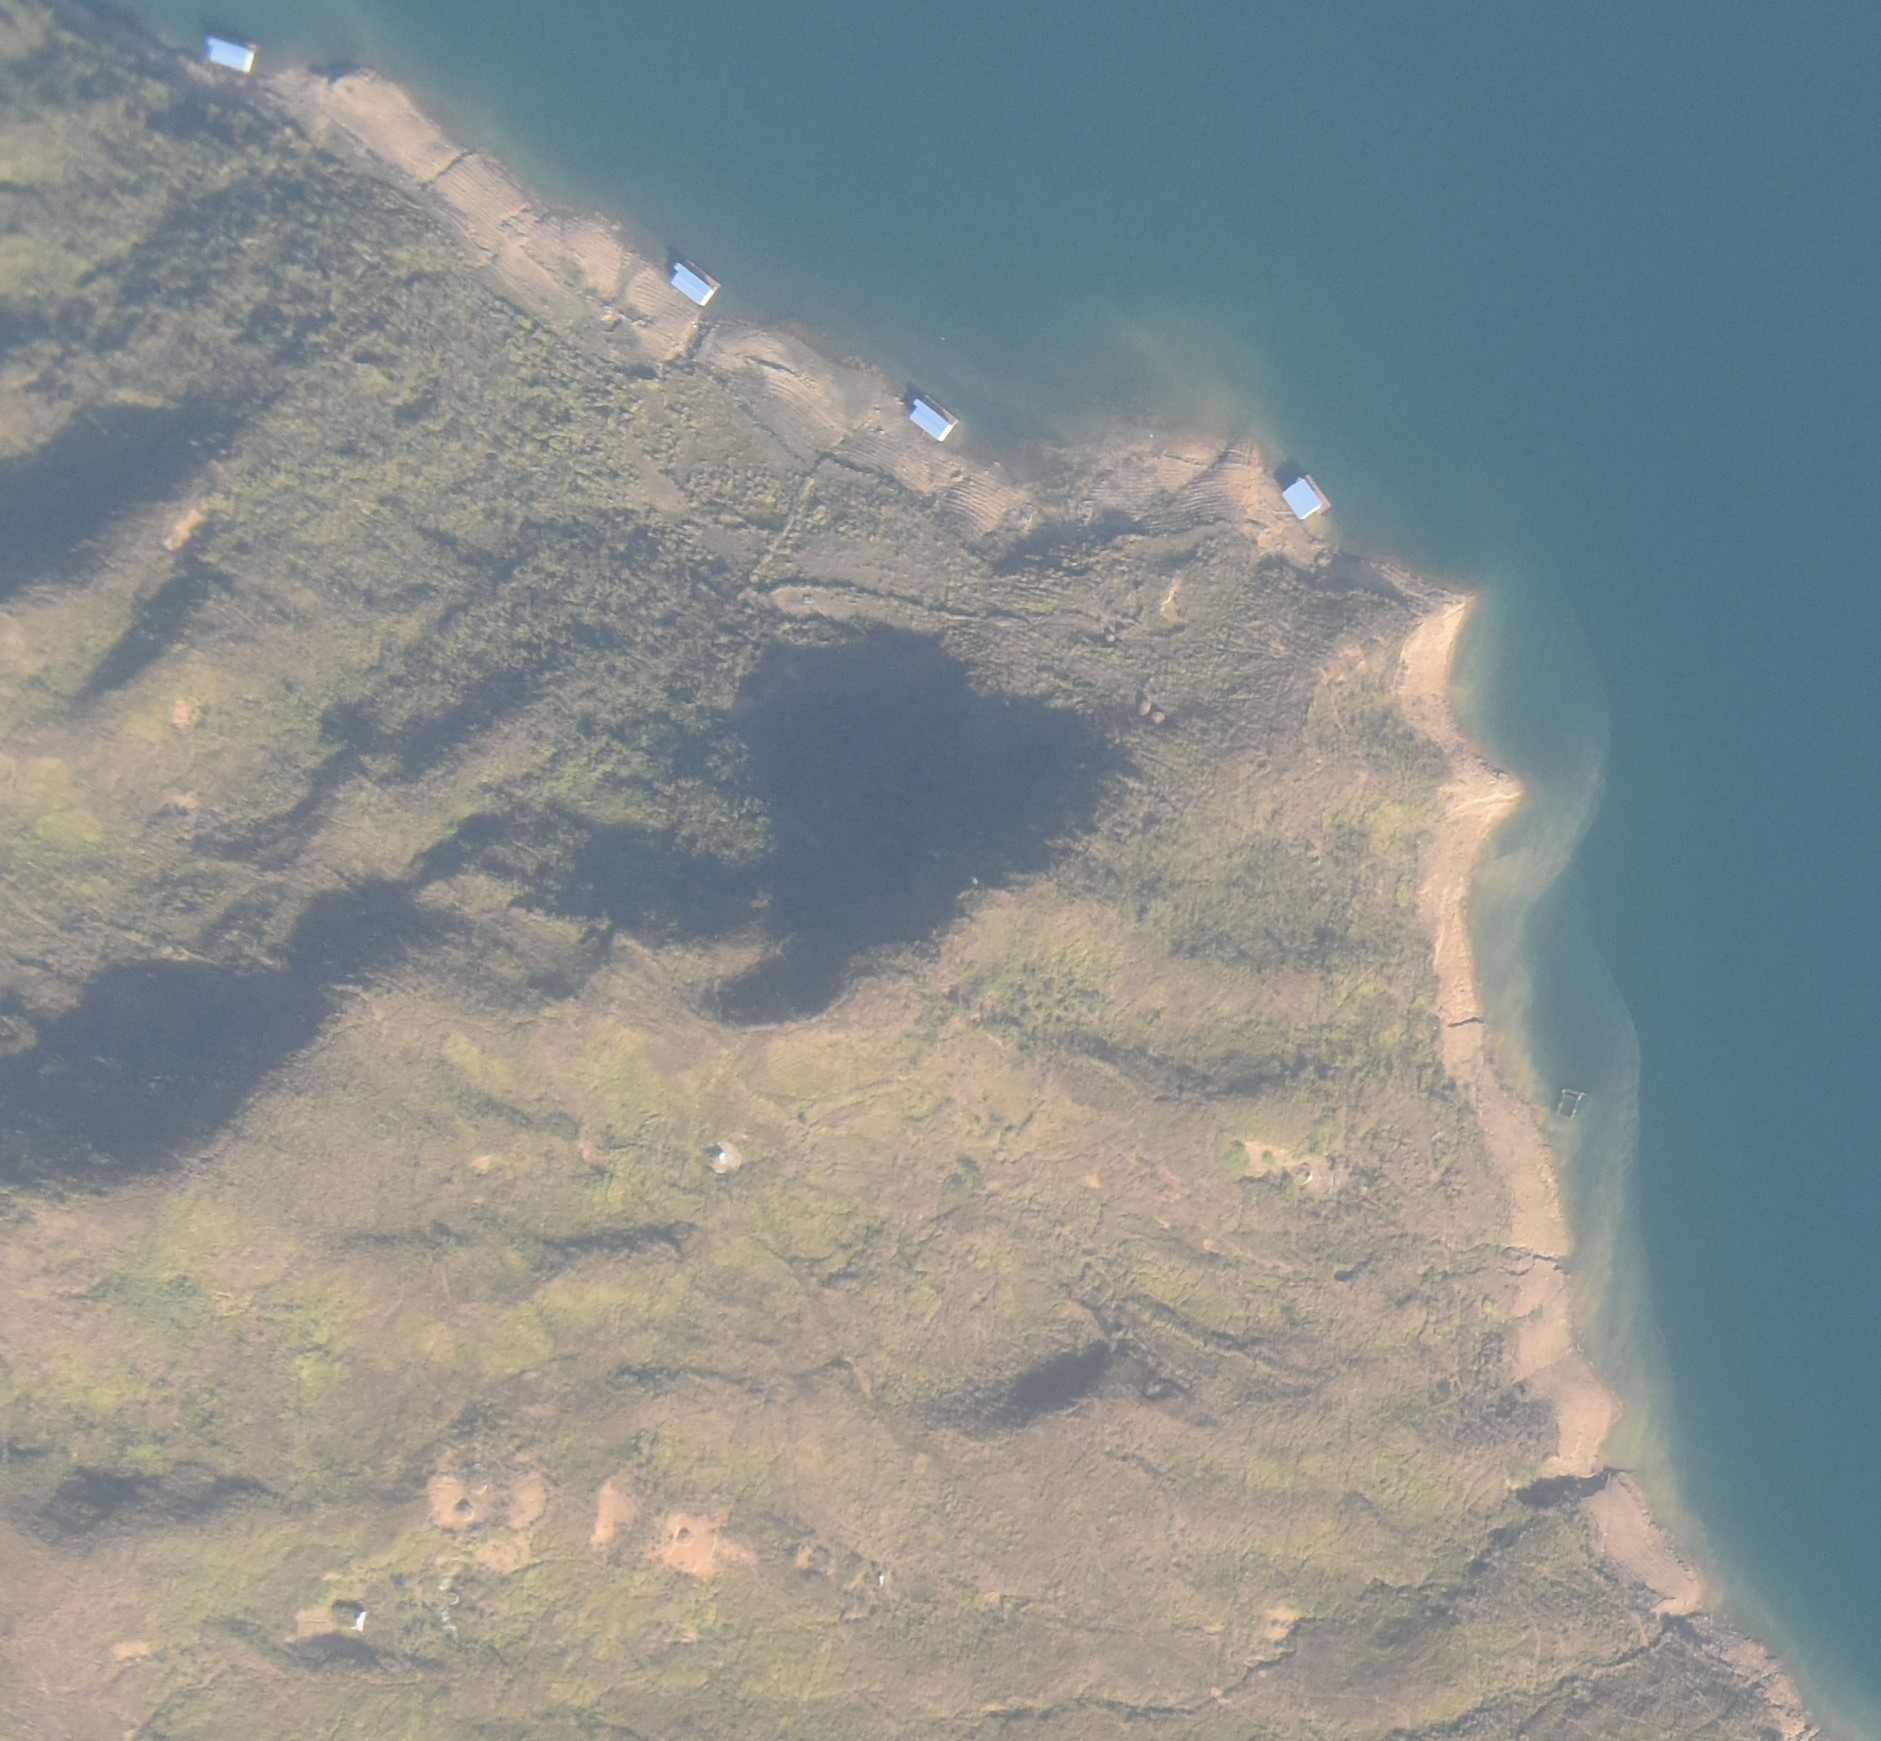prefabricated-house: (672, 257, 717, 307), (1281, 477, 1328, 523), (908, 398, 957, 441), (207, 34, 255, 71)
